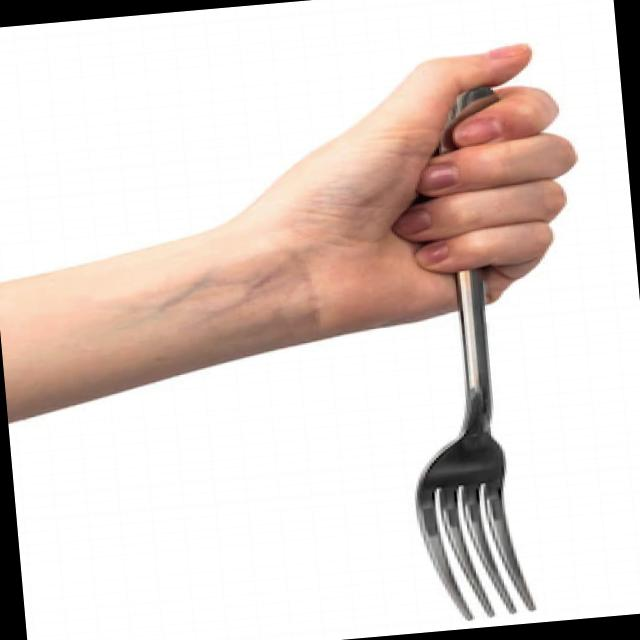fork: (379, 84, 548, 632)
